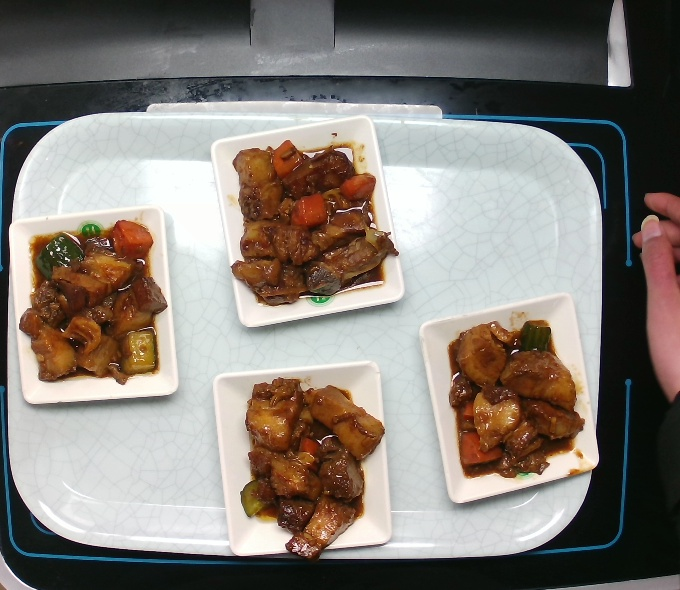wcq-JiangRou: (223, 137, 405, 317), (230, 376, 387, 562), (16, 219, 176, 388), (444, 314, 591, 483)
